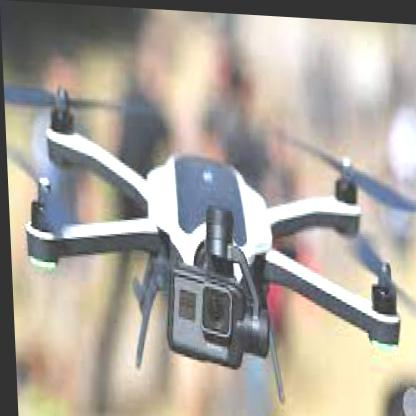UAS: (3, 81, 415, 408)
